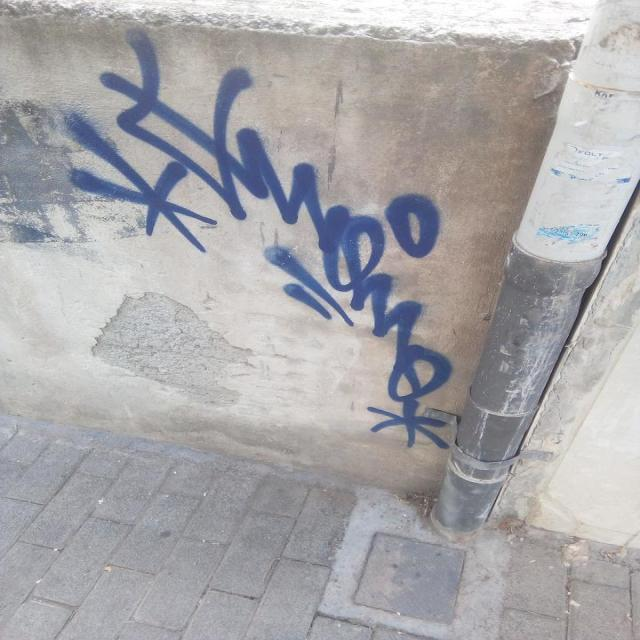nonspitting: (66, 28, 452, 453)
